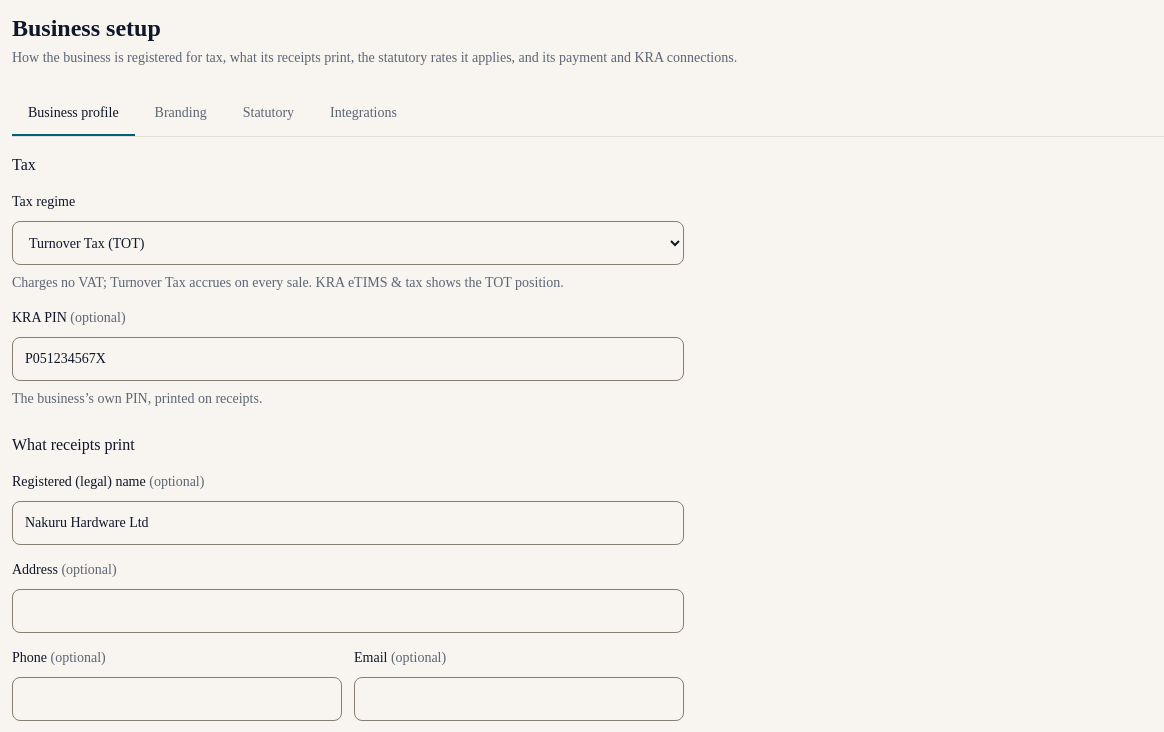
Scenario: branding › previews the receipt header live and saves the colour and logo
Click the tab "Branding" at (181, 114), box top-left (139, 92), bottom-right (223, 136)
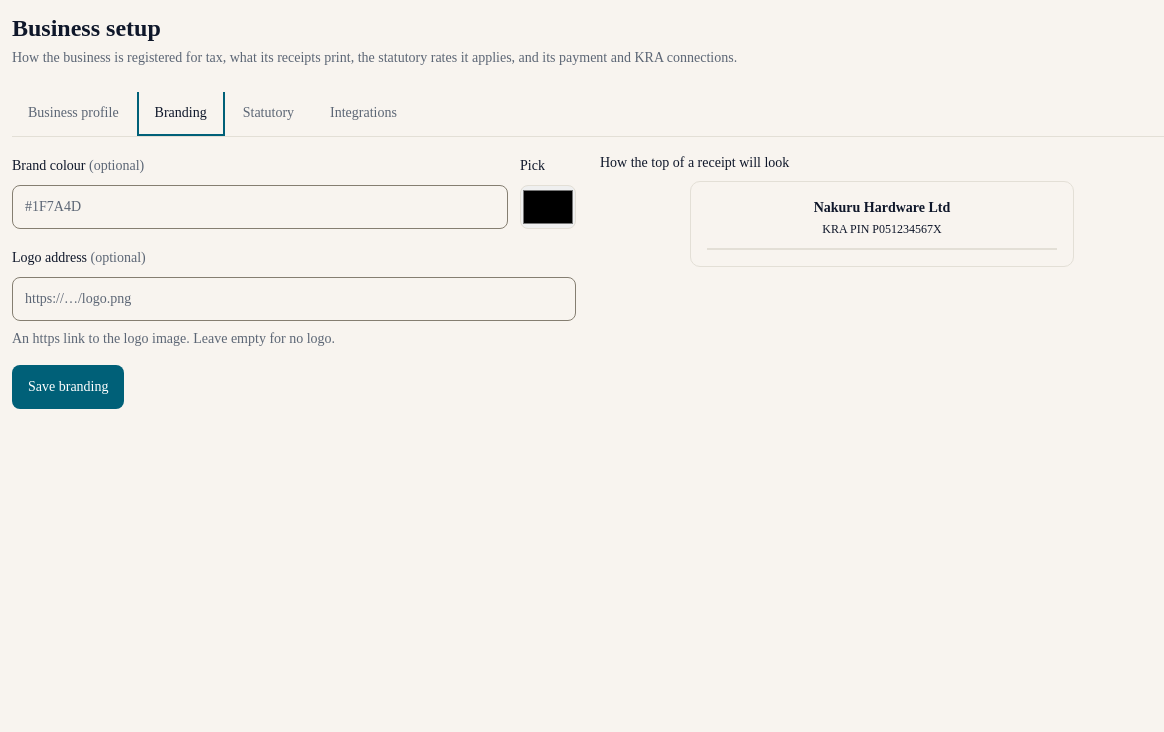
Expected: the element named "Receipt header preview" shows "Nakuru Hardware Ltd", top-left (814, 200), bottom-right (950, 215)
Expected: the element named "Receipt header preview" shows "KRA PIN P051234567X", top-left (690, 181), bottom-right (1074, 266)
Type "#1f7a4d" into the field labelled "Brand colour (optional)" at (260, 207), box top-left (12, 185), bottom-right (508, 229)
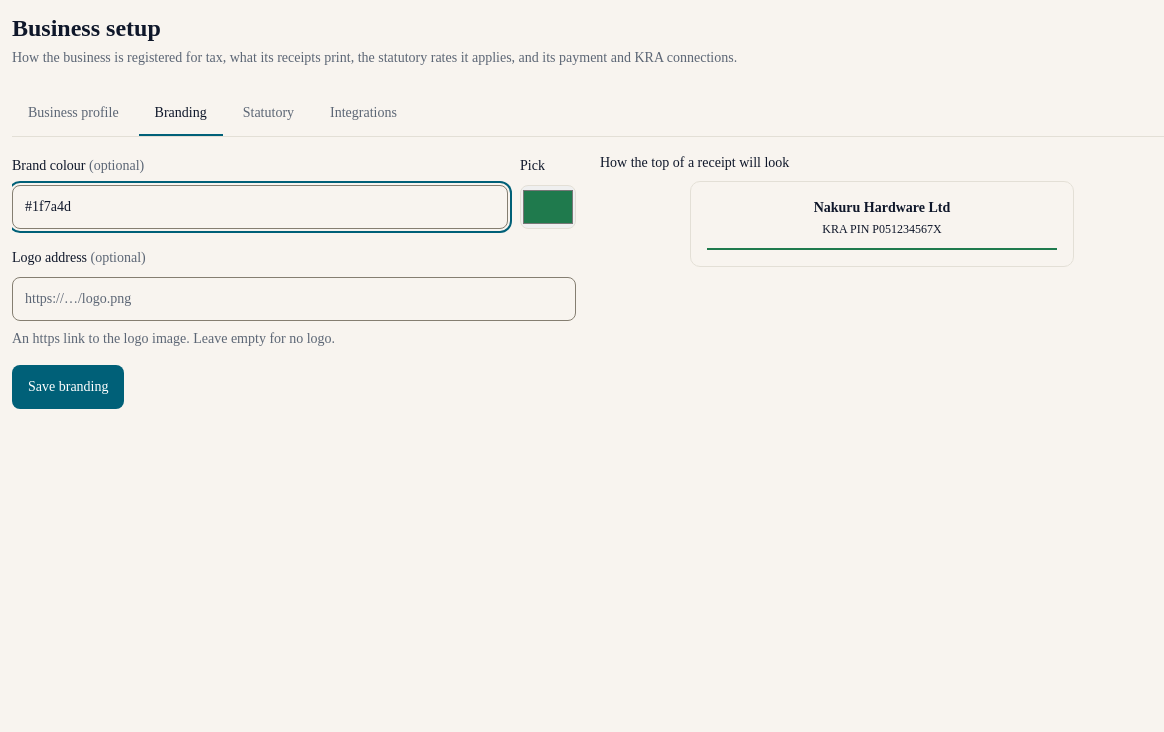
Type "http://example.com/logo.png" into the field labelled "Logo address (optional)" at (294, 299), box top-left (12, 277), bottom-right (576, 321)
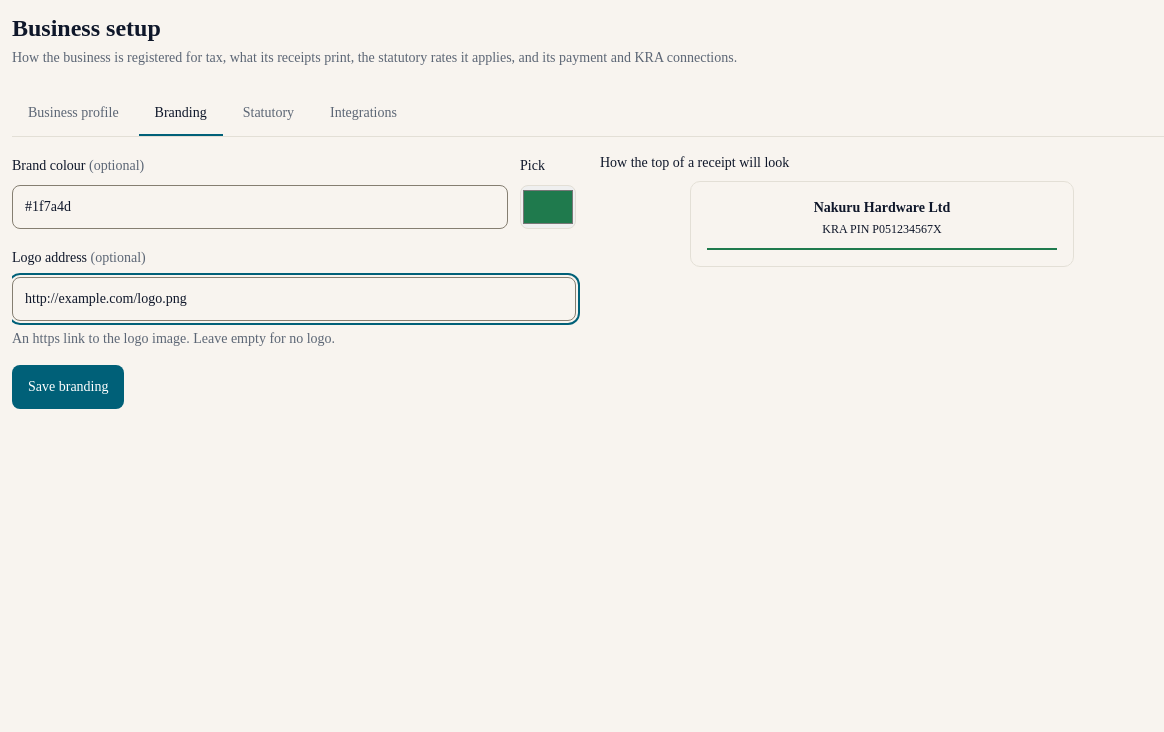
Click the button "Save branding" at (68, 387), box top-left (12, 365), bottom-right (124, 409)
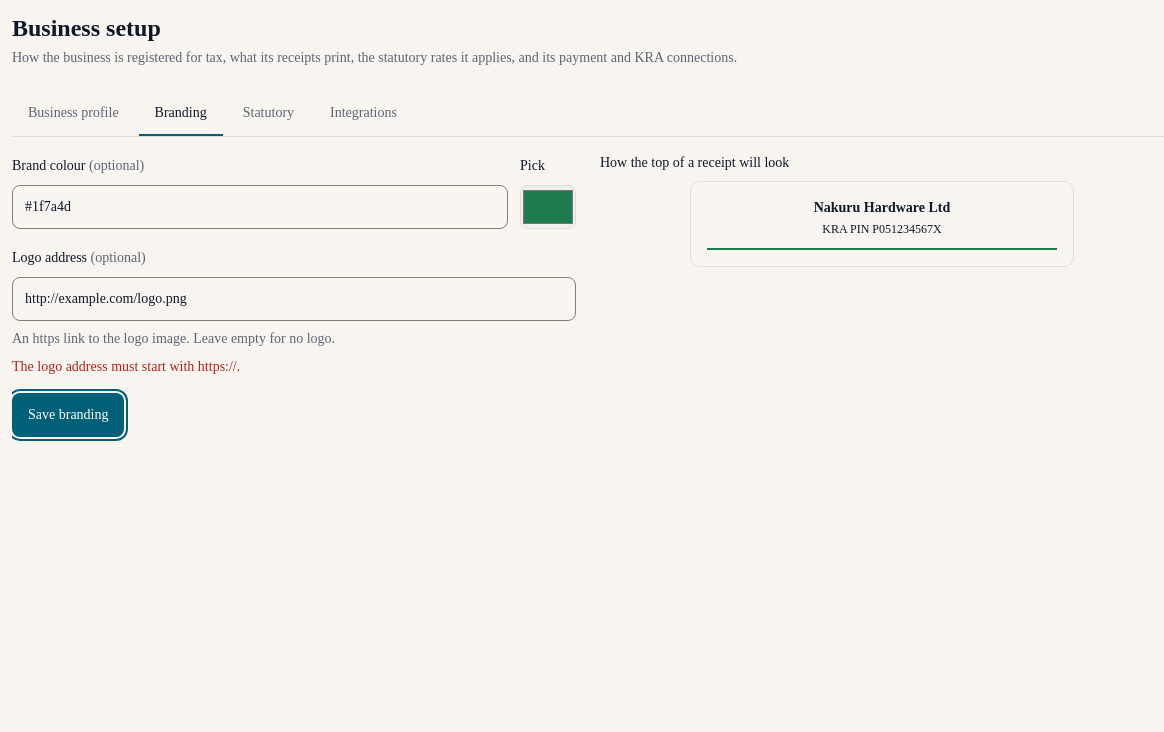
Expected: the text "The logo address must start with https://." is shown, top-left (12, 359), bottom-right (240, 374)
Replace the text in the field labelled "Logo address (optional)" with "https://cdn.example.com/logo.png" at (294, 299), box top-left (12, 277), bottom-right (576, 321)
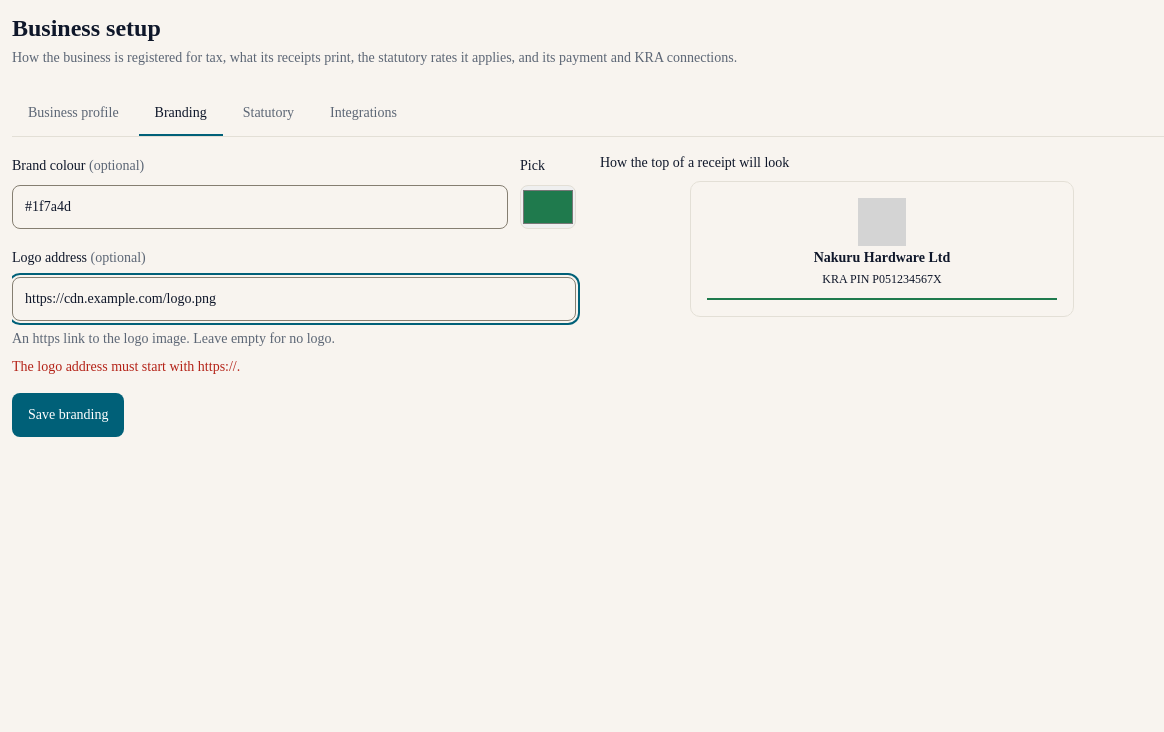
Click the button "Save branding" at (68, 415), box top-left (12, 393), bottom-right (124, 437)
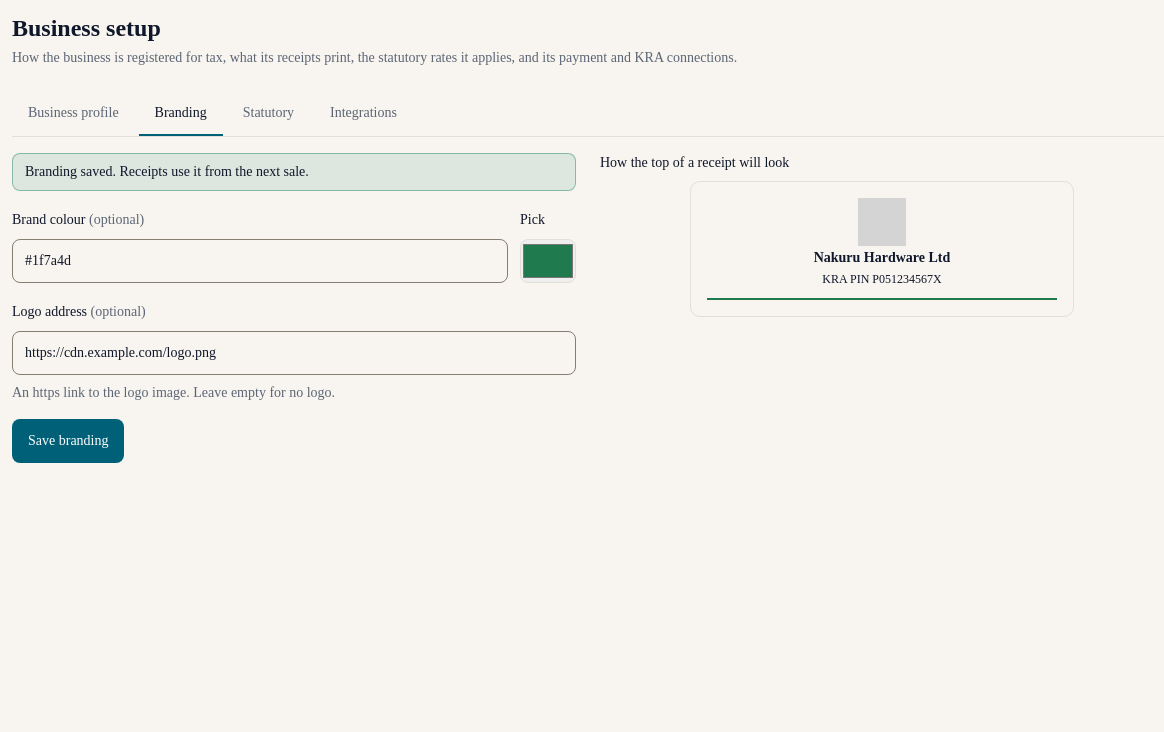
Expected: the text "Branding saved. Receipts use it from the next sale." is shown, top-left (12, 153), bottom-right (576, 191)
